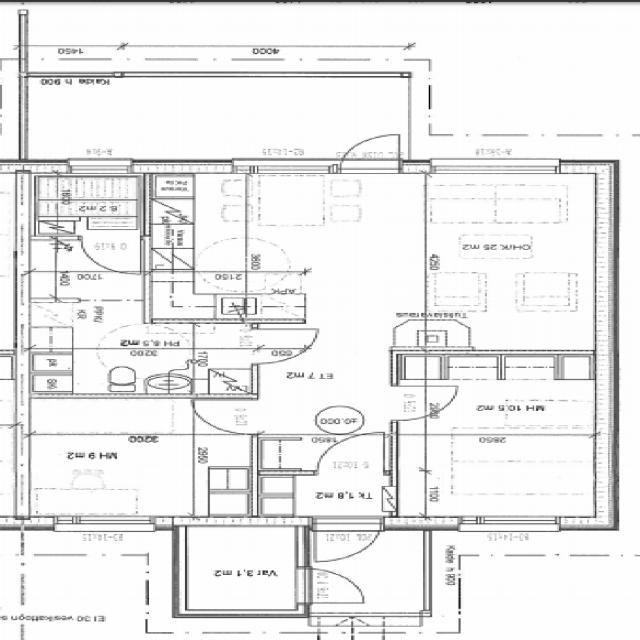door: (315, 516, 379, 567), (317, 431, 384, 475), (341, 126, 399, 173), (296, 569, 367, 603), (251, 328, 318, 364), (192, 400, 258, 434), (390, 386, 456, 420), (82, 236, 140, 274)
